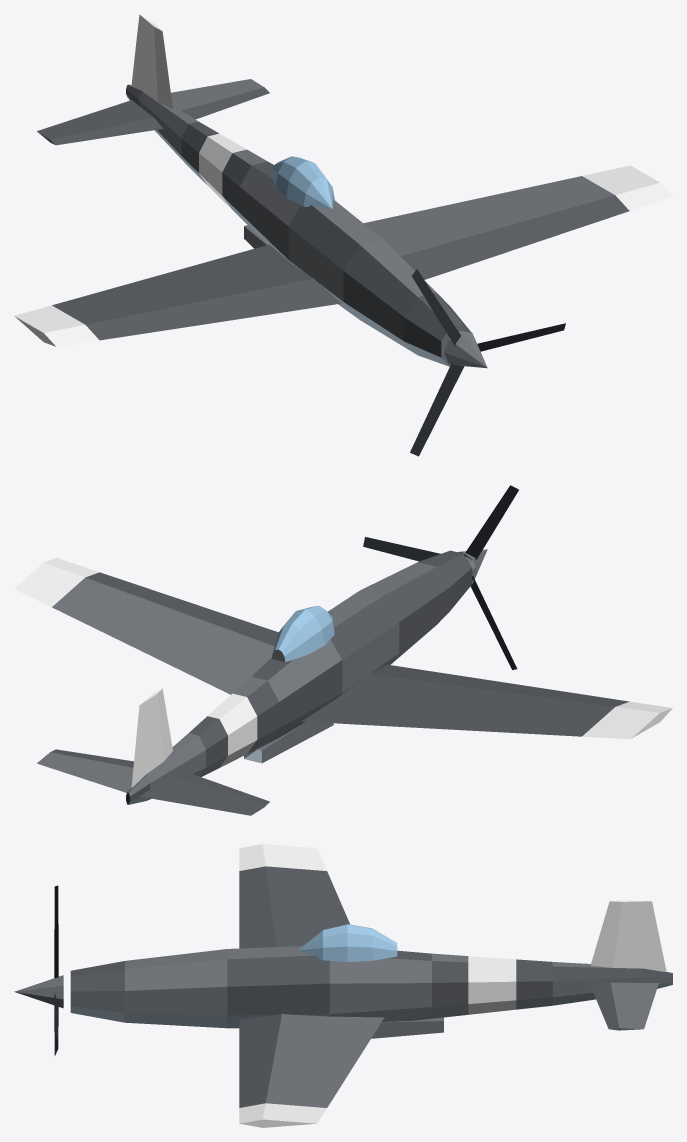
File: yak3.glb
3 renders of one model, top to bottom at view 1: azimuth 30°, elevation 25°; view 2: azimuth 150°, elevation 25°; view 3: azimuth 270°, elevation 25°, orthographic. The views are drawn at different scales.
Parts seen in each view (by area): view 1: body, prop; view 2: body, prop; view 3: body, prop.
Part boxes in pixels (x1,y1,x2,y2): body: (14,14,672,366); prop: (410,269,565,456); body: (14,550,672,815); prop: (363,485,518,669); body: (70,844,672,1127); prop: (14,885,63,1055).
Bounding box in the file's own units: 9.2 × 2.74 × 9.3.
